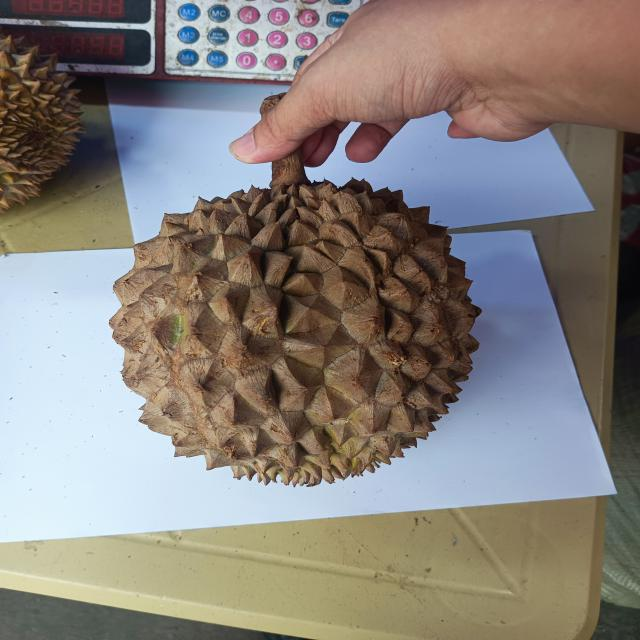mature: (110, 180, 480, 486), (0, 30, 84, 213)
